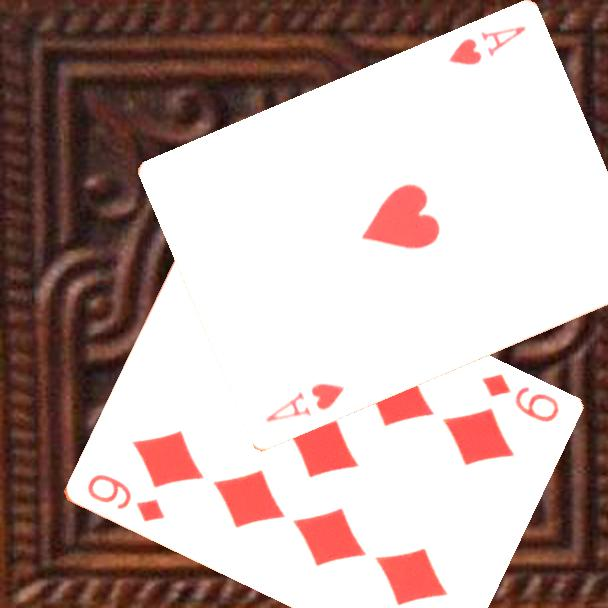d09: (477, 370, 561, 426), (83, 470, 167, 525)
h01: (262, 380, 347, 426), (444, 23, 529, 69)
